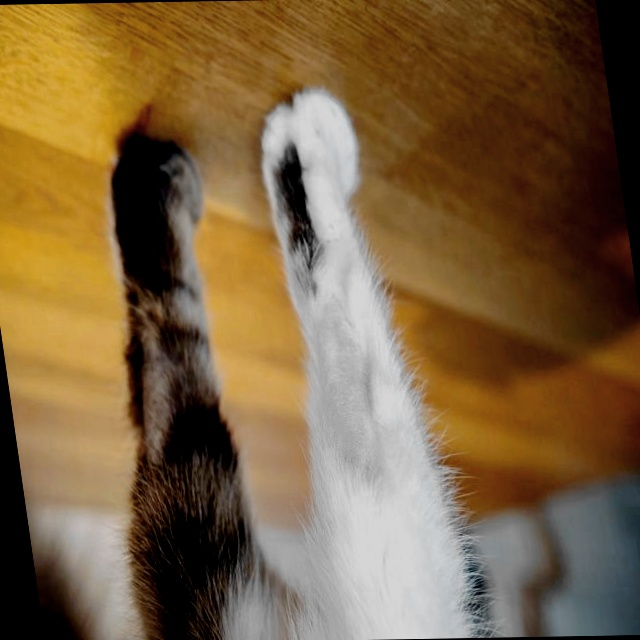hairloss: (293, 281, 392, 490)
